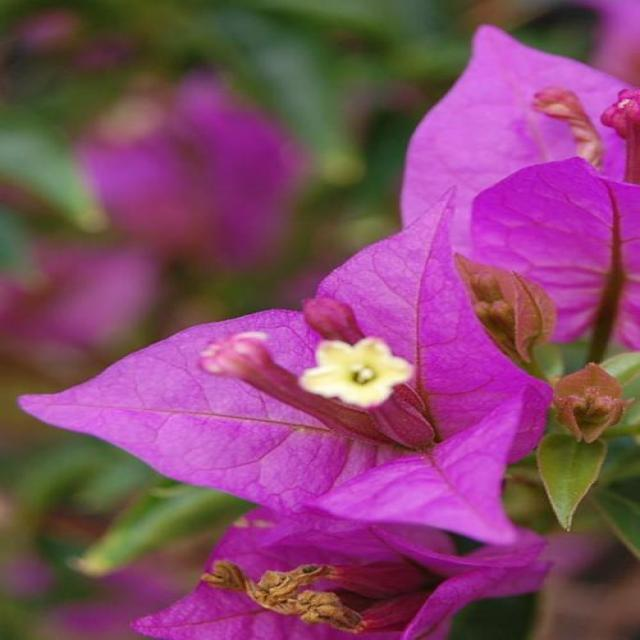bougainvillea: (51, 32, 640, 637)
